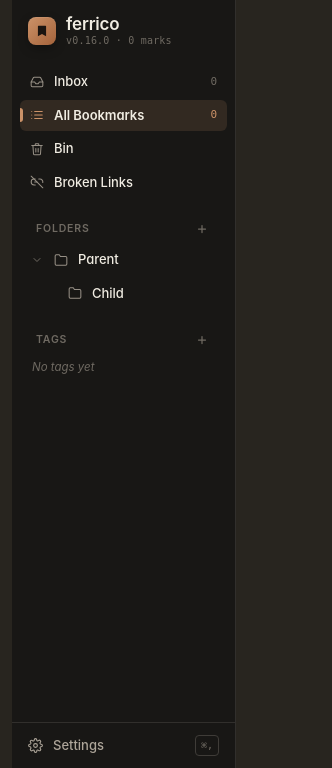
Test case: Sidebar › subfolders › hides children when the parent is collapsed
Step 1. Click the button named "collapse parent" → coordinates (37, 260), box top-left (30, 253), bottom-right (44, 267)
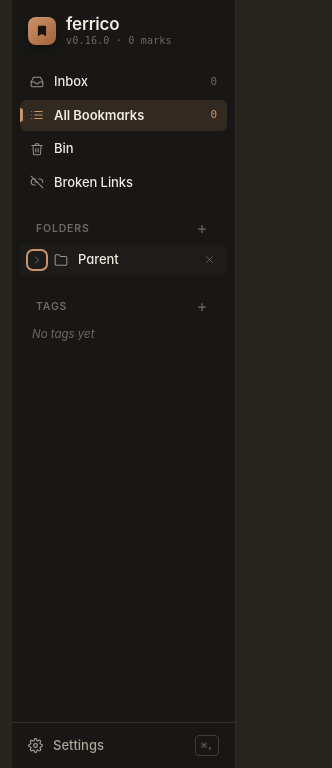
Expected: the button "Child" is gone
Expected: the button named "expand parent" is shown, top-left (30, 253), bottom-right (44, 267)
